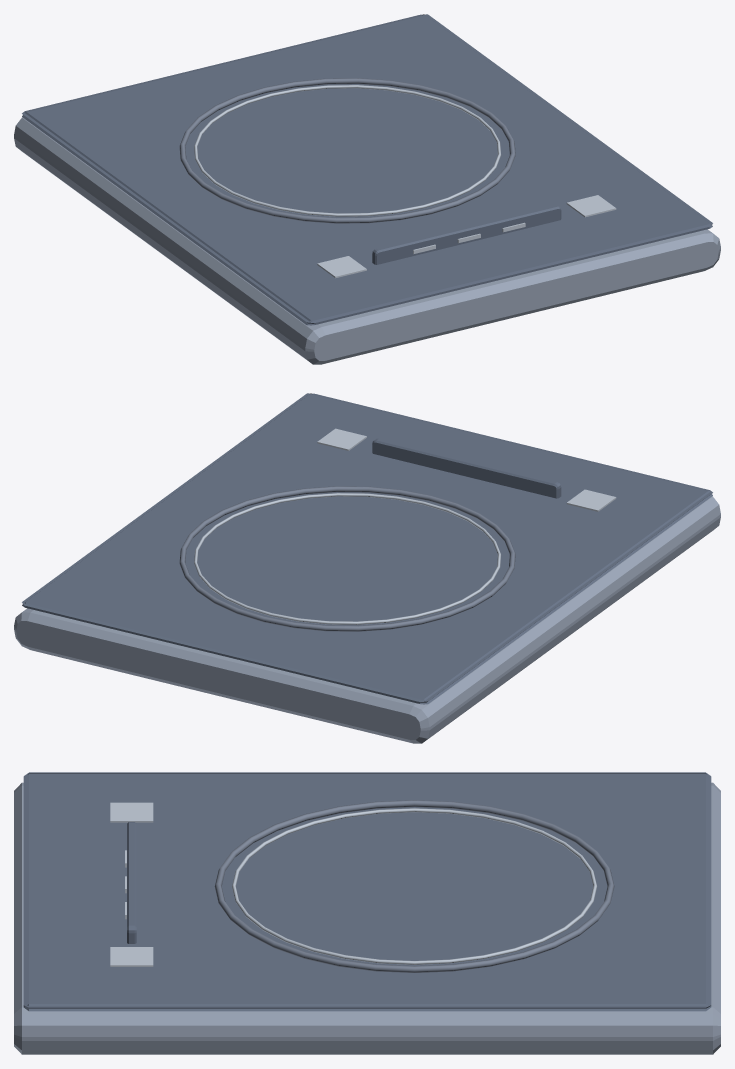
File: ceramic-hob.glb
The picture shows the model from 3 angles, top to bottom: view 1: azimuth 30°, elevation 25°; view 2: azimuth 150°, elevation 25°; view 3: azimuth 270°, elevation 25°; orthographic projection. The views are drawn at different scales.
Parts seen in each view (by area): view 1: dark, body, accent, light; view 2: dark, body, accent, light; view 3: dark, body, accent, light.
Part boxes in pixels (x1,y1,x2,y2): dark: (22,14,712,325); body: (14,117,720,364); accent: (179,78,515,223); light: (194,85,616,278); dark: (22,393,712,704); body: (14,496,720,743); accent: (179,486,515,631); light: (194,428,616,624); dark: (23,772,711,1011); body: (14,782,720,1054); accent: (214,800,614,972); light: (110,802,597,966).
Bounding box in the file's own units: 0.29 × 0.0375 × 0.36.
